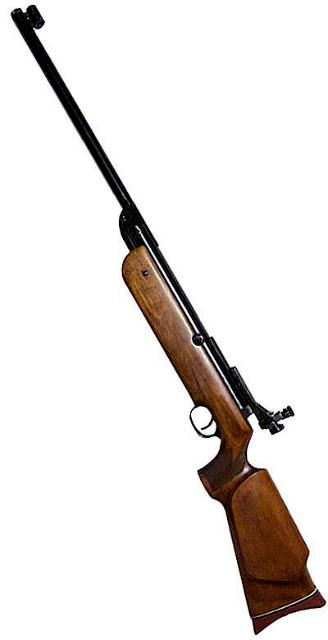rifle: (10, 6, 328, 634)
